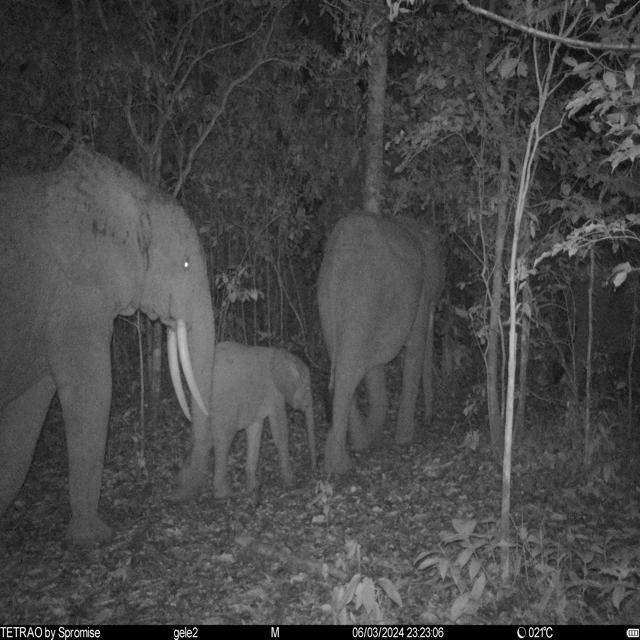calf: (172, 334, 322, 500)
ear: (43, 147, 150, 312), (267, 348, 296, 404)
elephant: (0, 146, 218, 550), (314, 214, 454, 473)
tusk: (176, 319, 213, 418), (167, 327, 194, 424)
